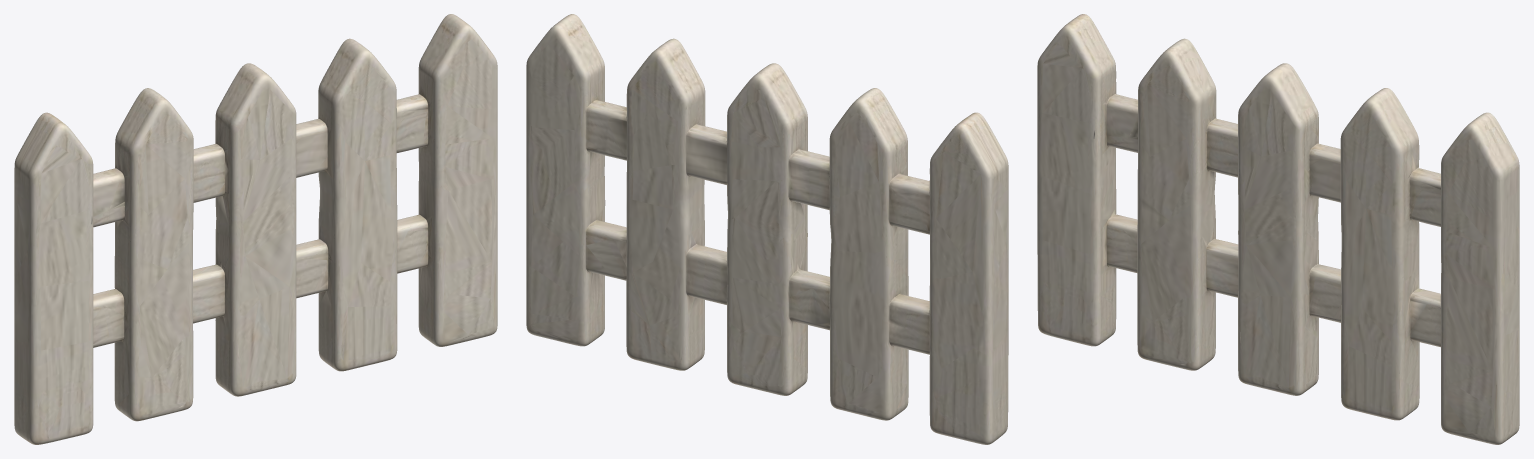
3 views of the same model, side by side, from view 1: azimuth 30°, elevation 25°; view 2: azimuth 150°, elevation 25°; view 3: azimuth 330°, elevation 25° (orthographic).
Size of the model in its own units: 1.9 by 1.23 by 0.1507.
Materials: 1 (1 with a texture image).
